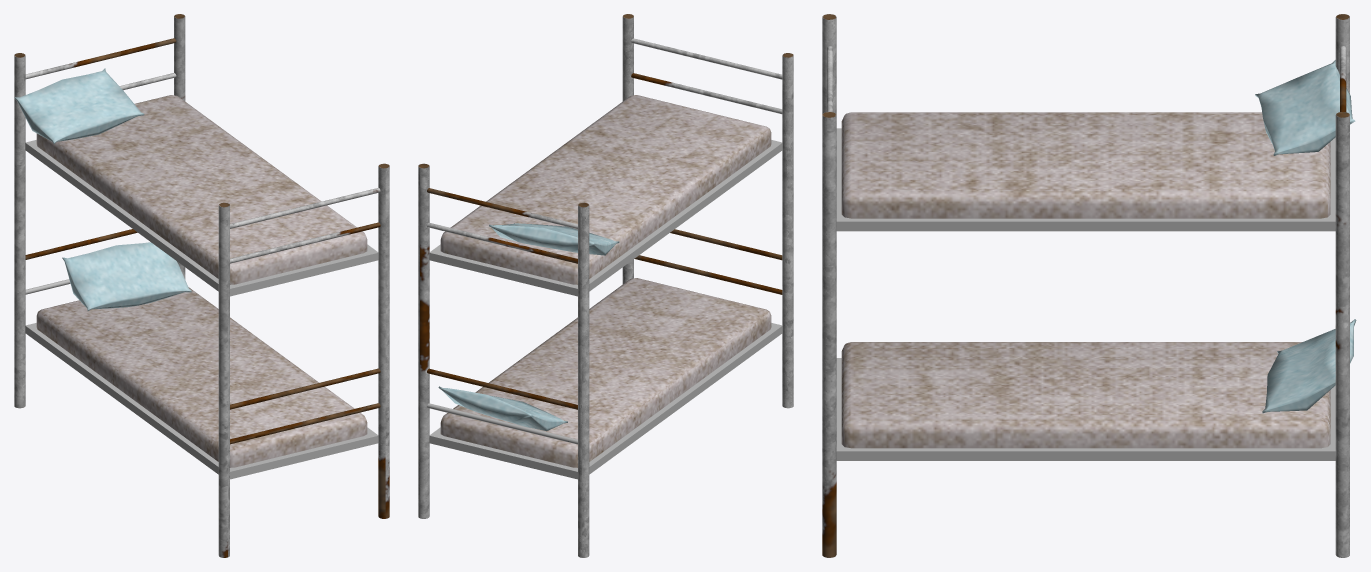
File: cama variada.fbx
3 renders of one model, left to right at view 1: azimuth 30°, elevation 25°; view 2: azimuth 150°, elevation 25°; view 3: azimuth 270°, elevation 25°, orthographic. The views are drawn at different scales.
Visible parts, largest first — view 1: Cube.006; view 2: Cube.006; view 3: Cube.006.
Boxes of the visible parts, <box> form: Cube.006: <box>14,14,389,557</box>; Cube.006: <box>418,14,793,557</box>; Cube.006: <box>822,14,1356,557</box>.
Size of the model in its own units: 122 by 238 by 261.
